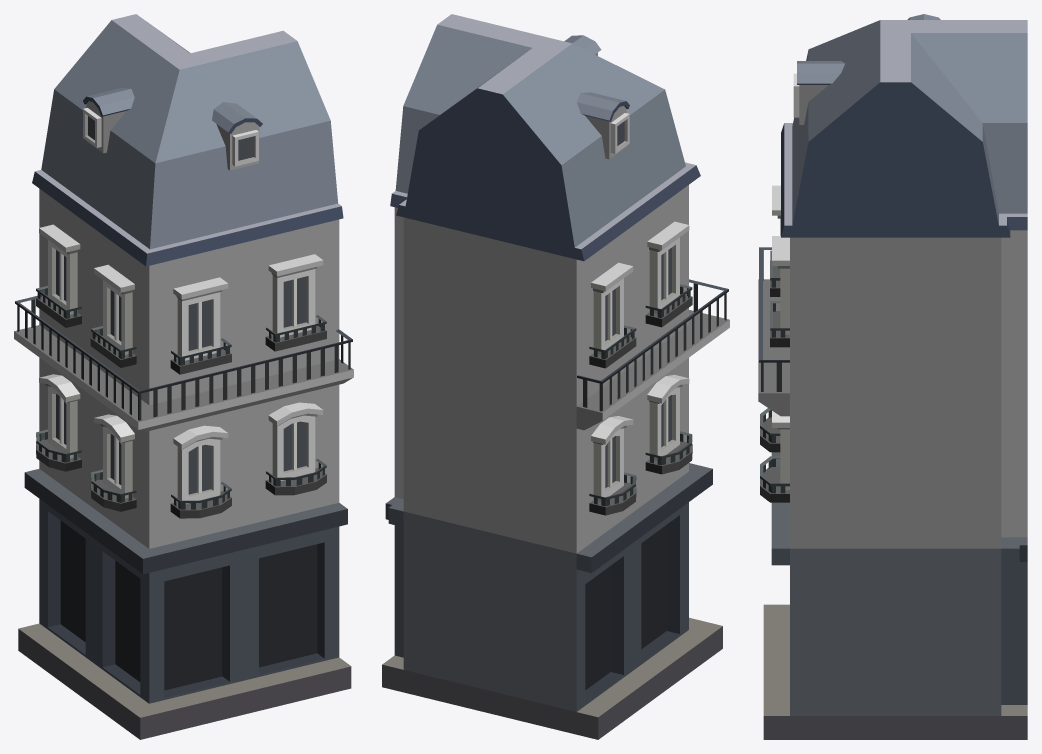
File: TB_CITY_BD_R_Corner_3_A.FBX
3 renders of one model, left to right at view 1: azimuth 30°, elevation 25°; view 2: azimuth 150°, elevation 25°; view 3: azimuth 270°, elevation 25°, orthographic. The views are drawn at different scales.
Visible parts, largest first — view 1: TB_CITY_BD_R_Corner_3_A; view 2: TB_CITY_BD_R_Corner_3_A; view 3: TB_CITY_BD_R_Corner_3_A.
Part boxes in pixels (box(x1,y1,x2,y2)): TB_CITY_BD_R_Corner_3_A: box(14, 14, 353, 739); TB_CITY_BD_R_Corner_3_A: box(382, 14, 729, 739); TB_CITY_BD_R_Corner_3_A: box(758, 14, 1027, 739).
Size of the model in its own units: 8.15 by 21.97 by 8.15.
